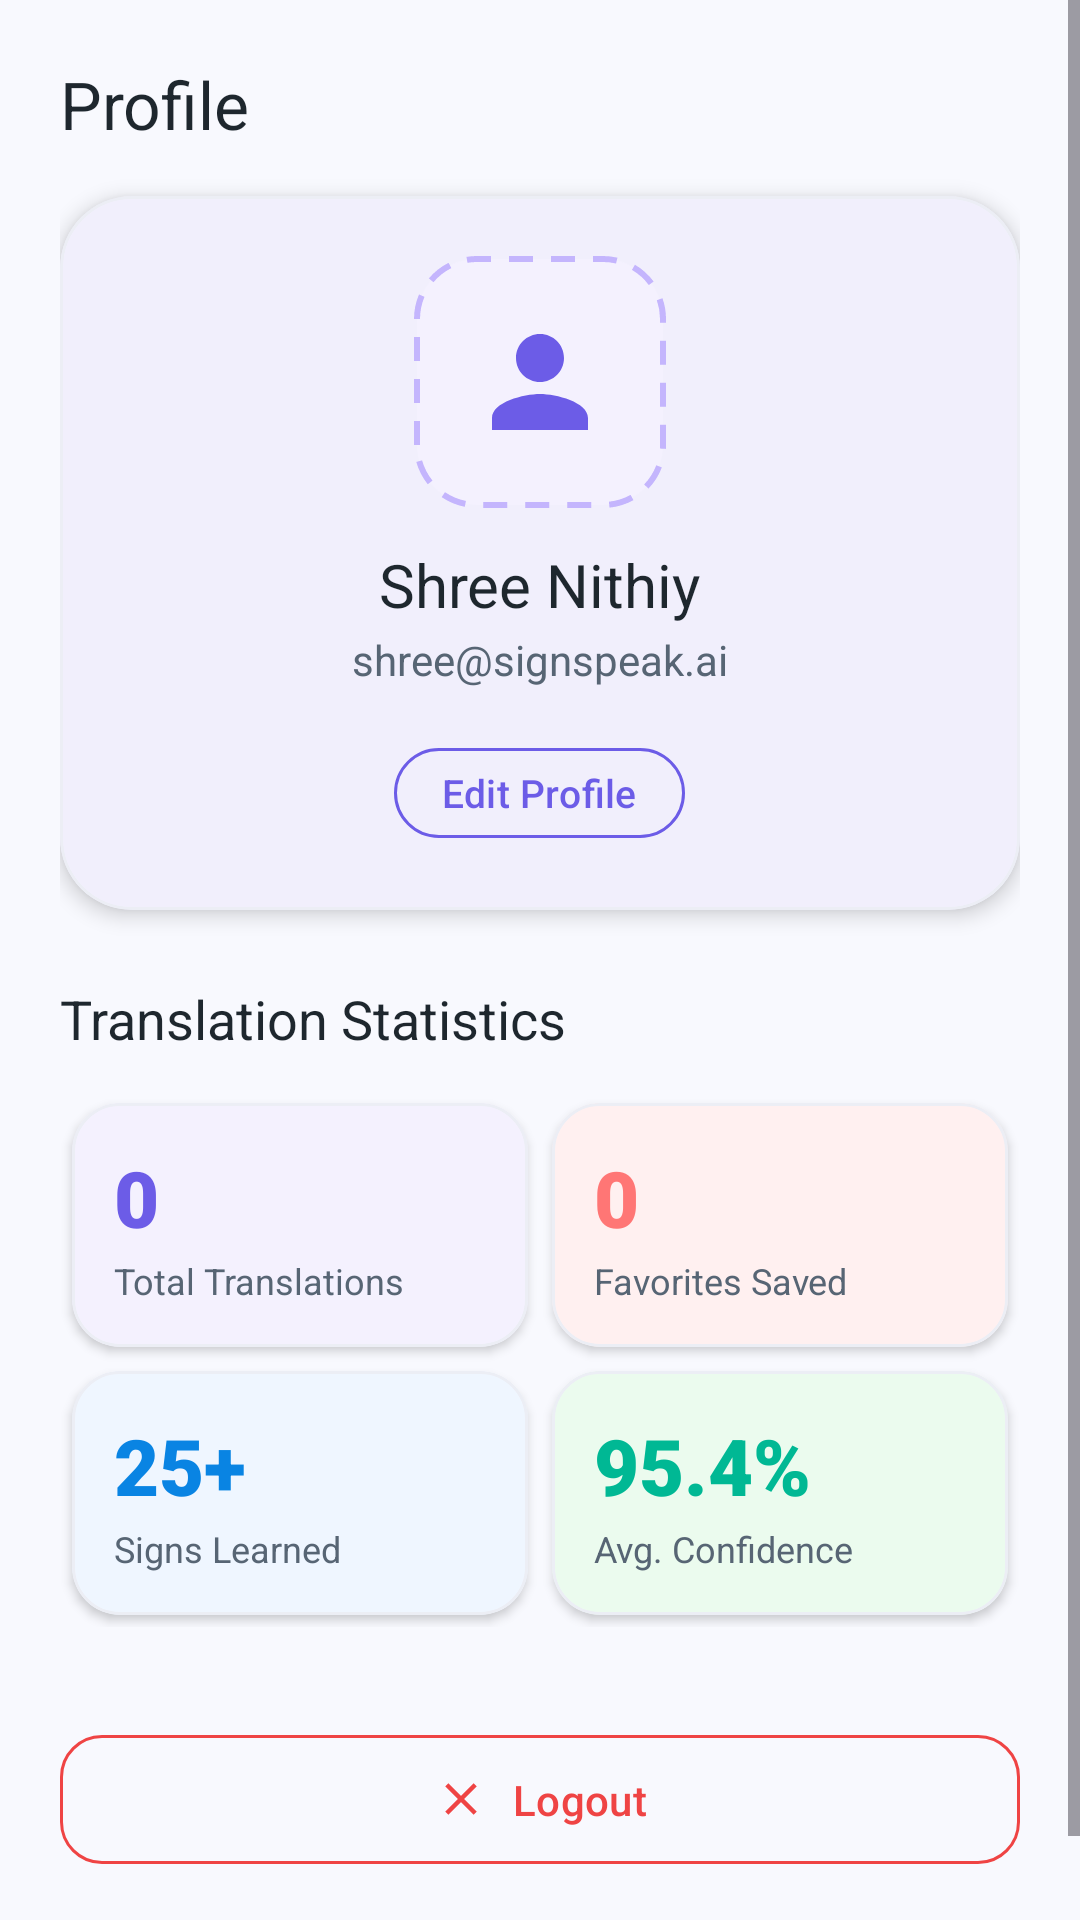

Icons on this 1080px×1920px Android screen, each with the point to tap as (x=x, y=y):
Profile avatar: (x=540, y=382)
